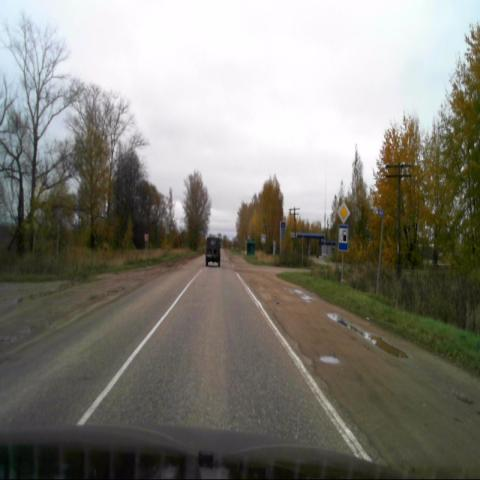7_3: (338, 225, 348, 251)
